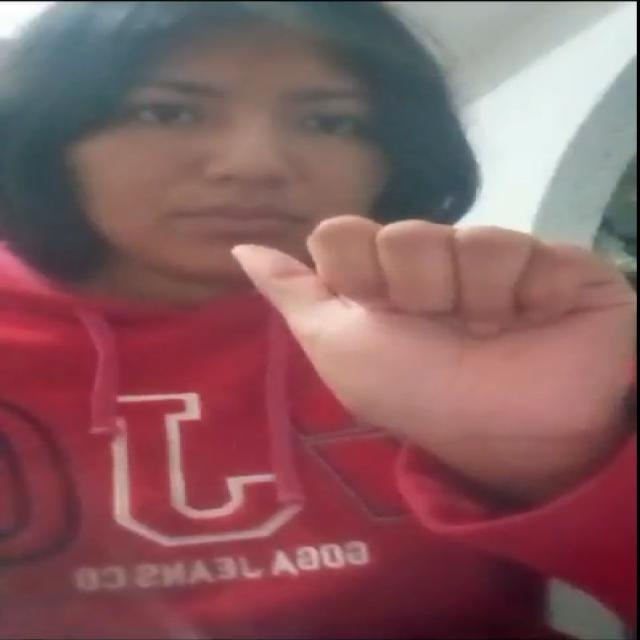A: (209, 190, 639, 488)
